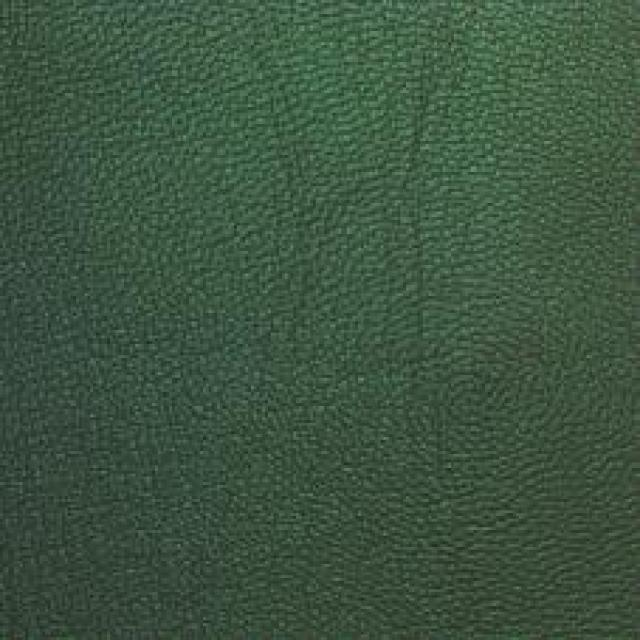Growth Marks: (361, 52, 558, 382), (235, 77, 338, 363)
